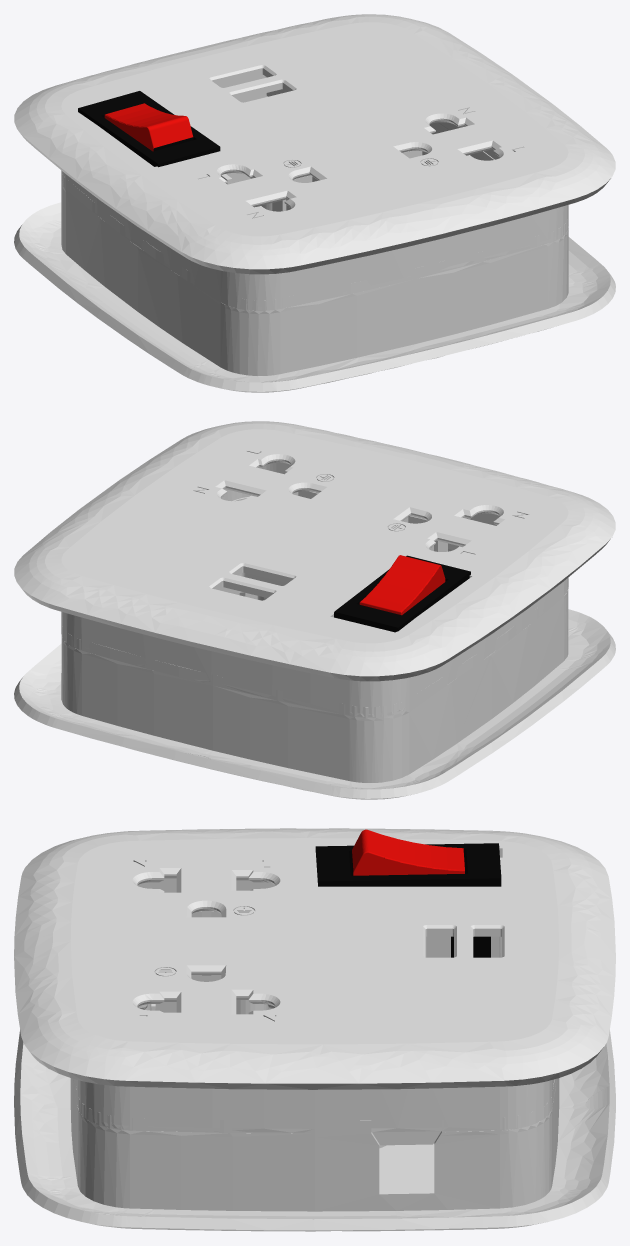
3 renders of one model, top to bottom at view 1: azimuth 30°, elevation 25°; view 2: azimuth 150°, elevation 25°; view 3: azimuth 270°, elevation 25°, orthographic. The views are drawn at different scales.
Visible parts, largest first — view 1: Top_Front, Bottom, Top, Swit.001, Swit; view 2: Top_Front, Bottom, Top, Swit, Swit.001; view 3: Top_Front, Bottom, Top, Swit.001, Swit.
Part boxes in pixels (box(x1,y1,x2,y2)): Top_Front: box(14, 14, 615, 269); Bottom: box(14, 150, 615, 392); Top: box(20, 65, 610, 310); Swit.001: box(78, 91, 220, 167); Swit: box(104, 103, 193, 151); Top_Front: box(14, 421, 615, 676); Bottom: box(14, 491, 615, 799); Top: box(18, 442, 610, 717); Swit: box(359, 555, 445, 615); Swit.001: box(334, 555, 470, 632); Top_Front: box(14, 828, 615, 1085); Bottom: box(14, 911, 615, 1231); Top: box(25, 858, 603, 1145); Swit.001: box(315, 843, 501, 957); Swit: box(352, 829, 464, 875).
Size of the model in its own units: 0.106 by 0.0408 by 0.106.
